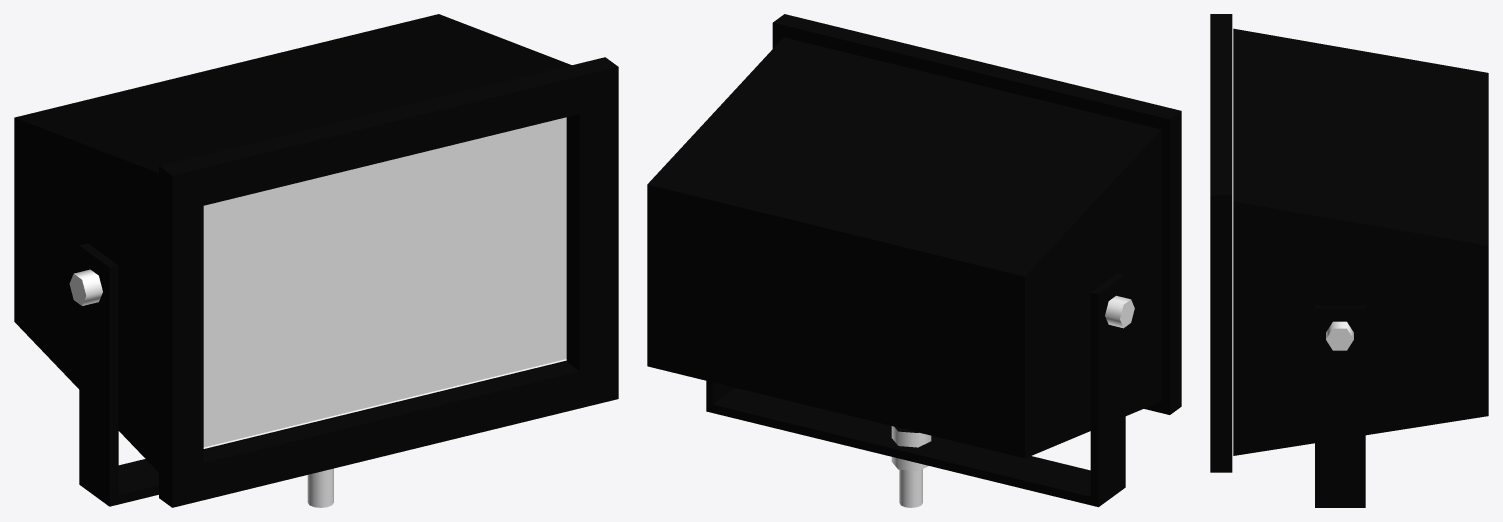
The model's file is Reflector.obj.
3 views of the same model, side by side, from view 1: azimuth 30°, elevation 25°; view 2: azimuth 150°, elevation 25°; view 3: azimuth 270°, elevation 25° (orthographic). The views are drawn at different scales.
Parts seen in each view (by area): view 1: Box03, Box02, Box01, Box04, Cylinder05, Cylinder08; view 2: Box01, Box04, Box02, Cylinder05, Cylinder08, Cylinder06; view 3: Box01, Box02, Box04, Cylinder07.
Part boxes in pixels (x1,y1,x2,y2): Box03: (203,117,566,447); Box02: (159,57,618,507); Box01: (14,14,571,472); Box04: (79,243,158,506); Cylinder05: (307,468,333,507); Cylinder08: (69,269,102,305); Box01: (647,37,1161,458); Box04: (706,273,1125,507); Box02: (772,14,1181,414); Cylinder05: (899,469,922,507); Cylinder08: (1105,295,1134,328); Cylinder06: (891,426,931,447); Box01: (1233,28,1488,455); Box02: (1210,14,1232,472); Box04: (1315,305,1365,507); Cylinder07: (1326,321,1353,350).
Size of the model in its own units: 7.04 by 6.22 by 4.29.
